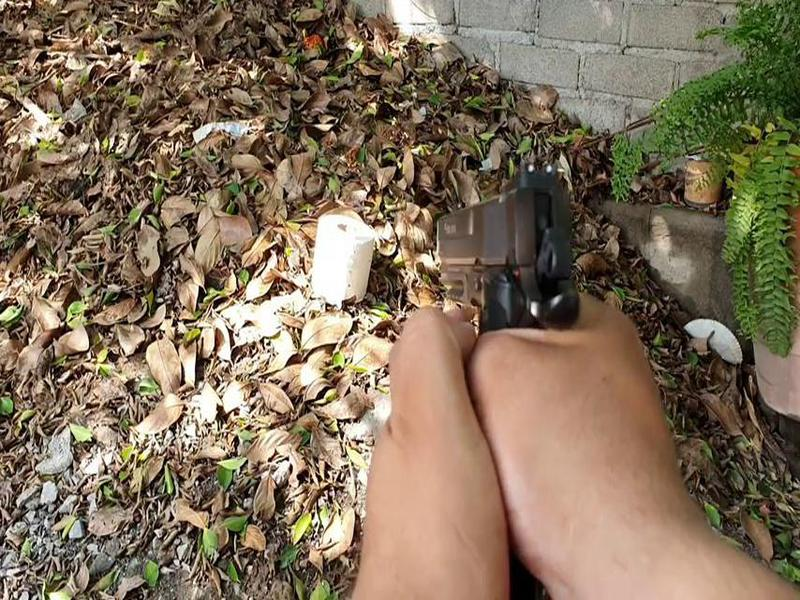Pistola: (399, 171, 599, 354)
